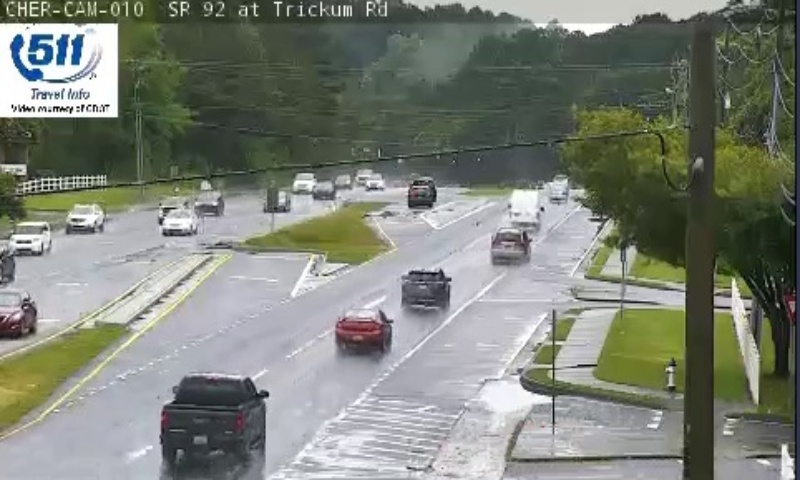car: (160, 377, 265, 454), (335, 310, 391, 350), (401, 268, 451, 306), (491, 229, 529, 263)
van: (509, 189, 541, 229)
